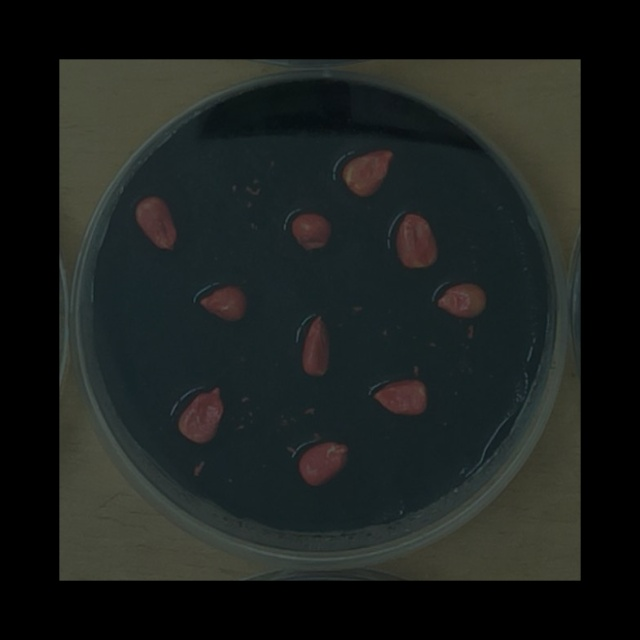Zea mays: (172, 381, 230, 450), (389, 206, 445, 274), (129, 190, 184, 259), (292, 434, 355, 493), (336, 143, 399, 201), (364, 373, 434, 423), (295, 308, 337, 383), (192, 281, 252, 328), (431, 277, 492, 323), (285, 207, 338, 258)
